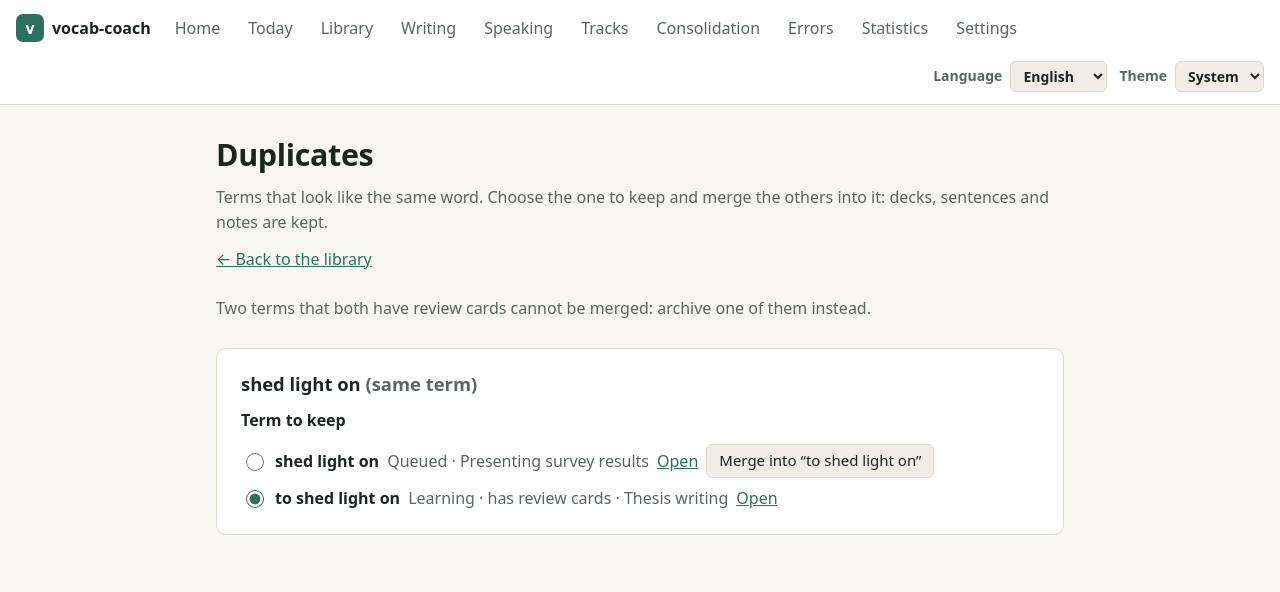
Test case: duplicates page › explains why two terms with cards cannot be merged
Click the button "Merge into “to shed light on”" at (820, 461), box [706, 444, 934, 478]
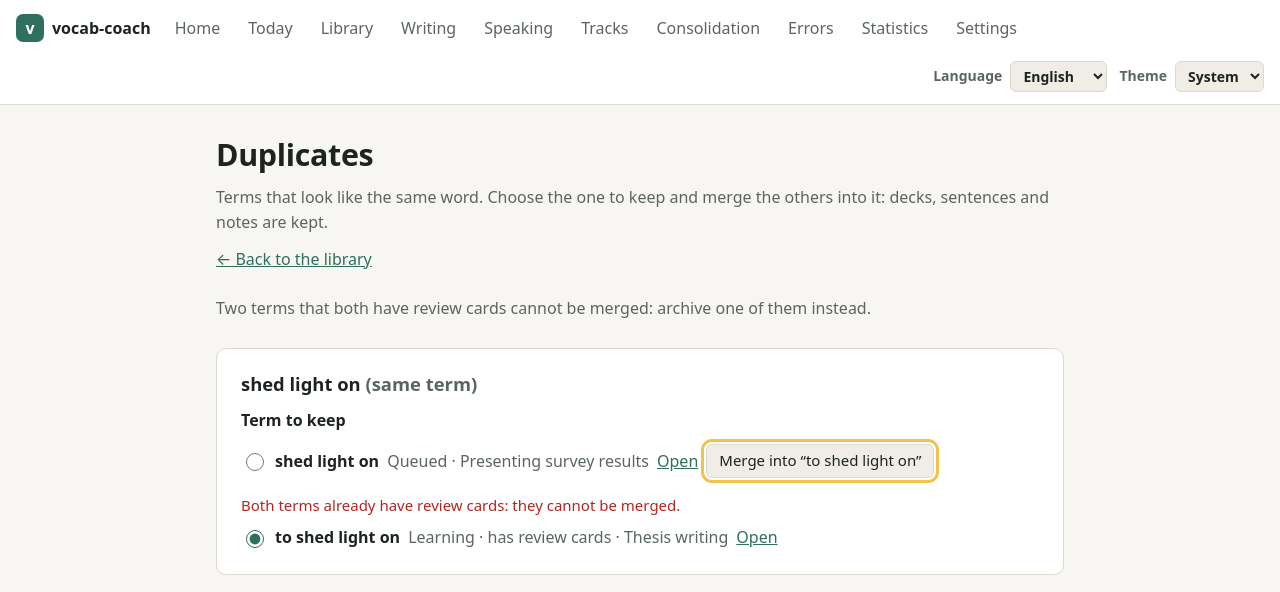
Check: the text "Both terms already have review cards: they cannot be merged." is shown, box [241, 494, 680, 517]
